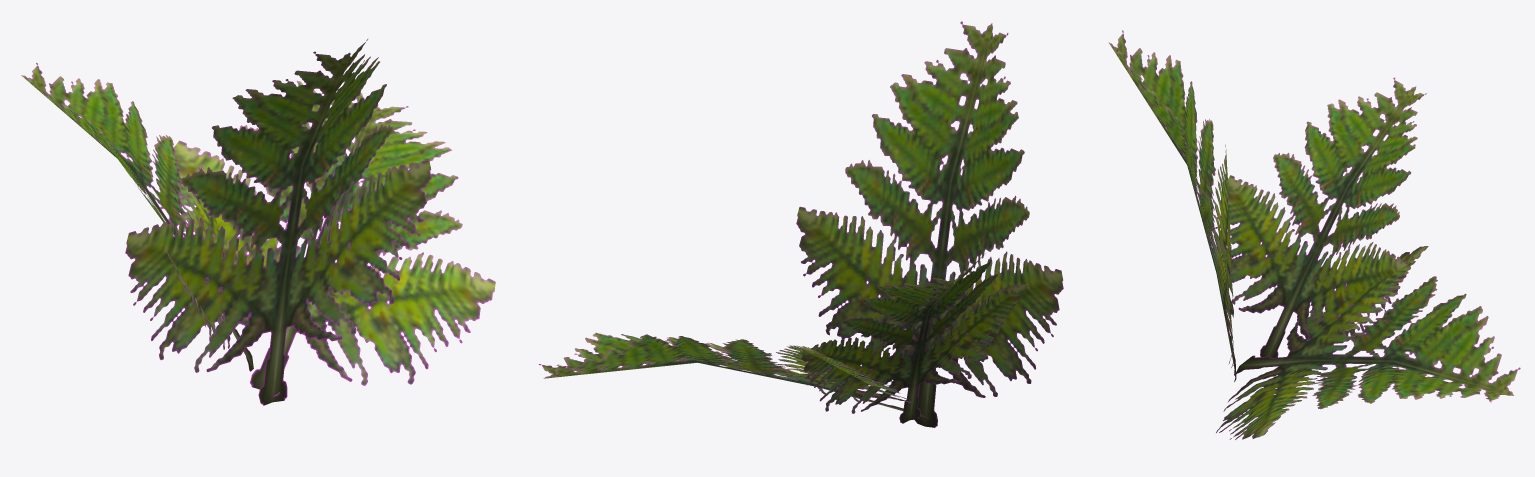
The model's file is n_grass02.glb.
3 views of the same model, side by side, from view 1: azimuth 30°, elevation 25°; view 2: azimuth 150°, elevation 25°; view 3: azimuth 270°, elevation 25° (orthographic). The views are drawn at different scales.
Visible parts, largest first — view 1: n_grass02; view 2: n_grass02; view 3: n_grass02.
Boxes of the visible parts, <box> form: n_grass02: <box>21,39,495,405</box>; n_grass02: <box>538,21,1063,427</box>; n_grass02: <box>1108,30,1520,439</box>.
Bounding box in the file's own units: 0.7746 × 0.7034 × 0.6752.
Materials: 1 (1 with a texture image).
